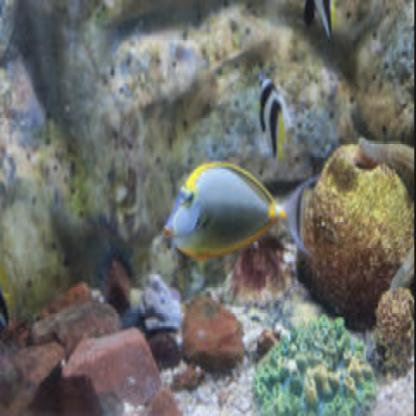Acanthuridae -Surgeonfishes-: (154, 161, 324, 269)
